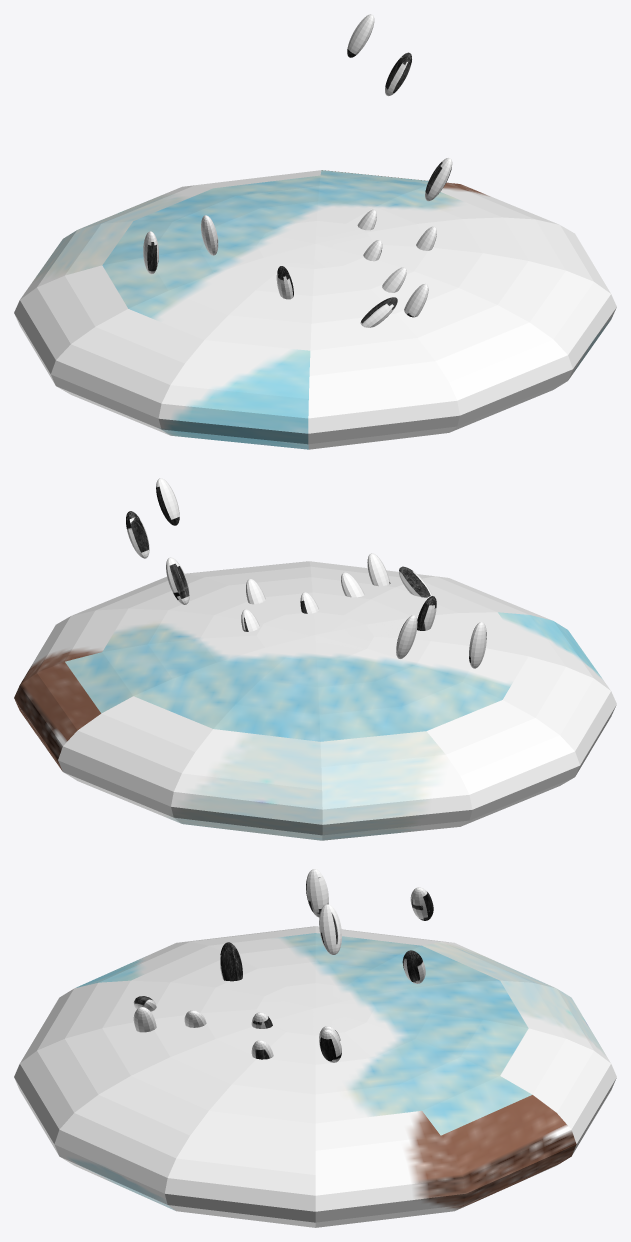
Rendered from paso 6  - copia.fbx.
3 views of the same model, one above another, from view 1: azimuth 30°, elevation 25°; view 2: azimuth 150°, elevation 25°; view 3: azimuth 270°, elevation 25° (orthographic). The views are drawn at different scales.
Parts seen in each view (by area): view 1: paso_6_blend; view 2: paso_6_blend; view 3: paso_6_blend.
Boxes of the visible parts, bbox=[...] form: paso_6_blend: bbox=[14, 14, 616, 449]; paso_6_blend: bbox=[14, 478, 616, 840]; paso_6_blend: bbox=[14, 869, 616, 1227].
Size of the model in its own units: 212 by 114 by 200.
